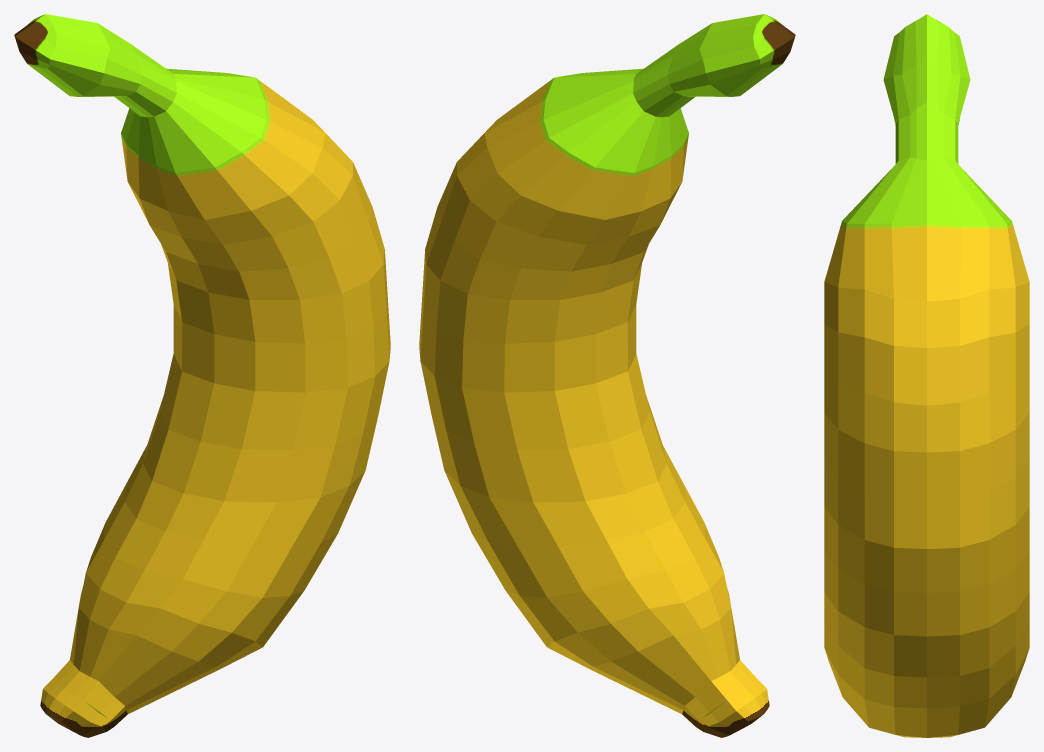
File: BANANA.glb
3 renders of one model, left to right at view 1: azimuth 30°, elevation 25°; view 2: azimuth 150°, elevation 25°; view 3: azimuth 270°, elevation 25°, orthographic. The views are drawn at different scales.
Parts seen in each view (by area): view 1: BANANA-DE-CRIA; view 2: BANANA-DE-CRIA; view 3: BANANA-DE-CRIA.
Boxes of the visible parts, x1=… form: BANANA-DE-CRIA: x1=14, y1=14, x2=390, y2=737; BANANA-DE-CRIA: x1=419, y1=14, x2=795, y2=737; BANANA-DE-CRIA: x1=824, y1=14, x2=1029, y2=737.
Bounding box in the file's own units: 2.1 × 4.05 × 1.08.
Materials: 1 (1 with a texture image).
